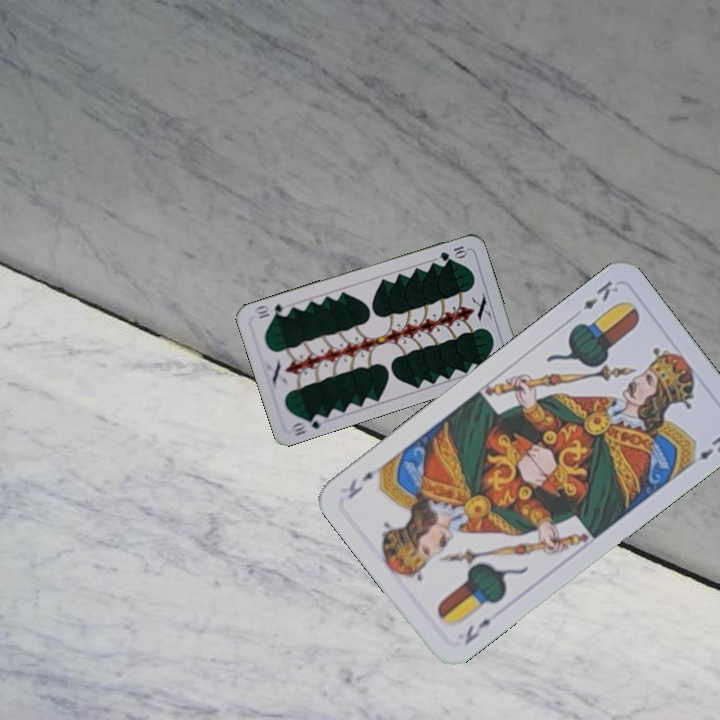EK: (578, 276, 622, 313), (460, 614, 494, 648)
G10: (287, 410, 328, 439), (436, 242, 470, 264)
